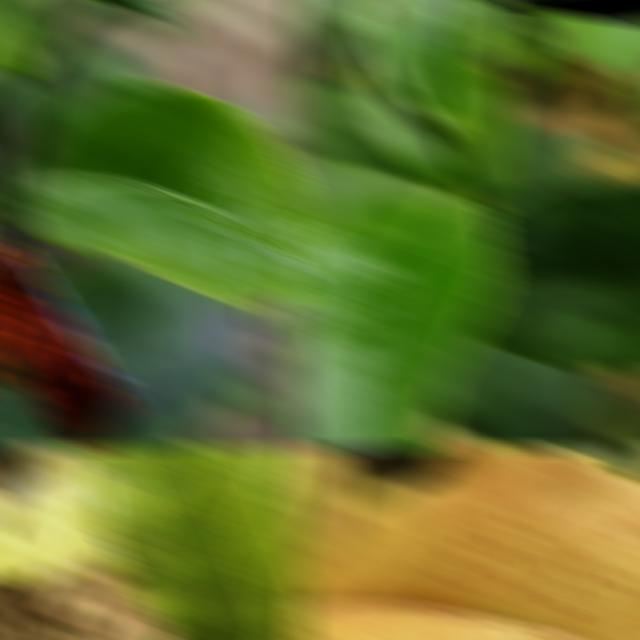Leaf: (292, 445, 640, 640), (13, 83, 308, 311), (292, 192, 506, 451), (67, 445, 308, 640), (41, 255, 264, 451), (467, 180, 640, 373), (436, 337, 597, 451), (381, 0, 512, 135), (0, 447, 125, 582), (292, 78, 422, 181), (292, 150, 442, 238), (532, 8, 640, 120), (292, 445, 354, 586), (0, 358, 79, 451), (292, 0, 377, 65)
